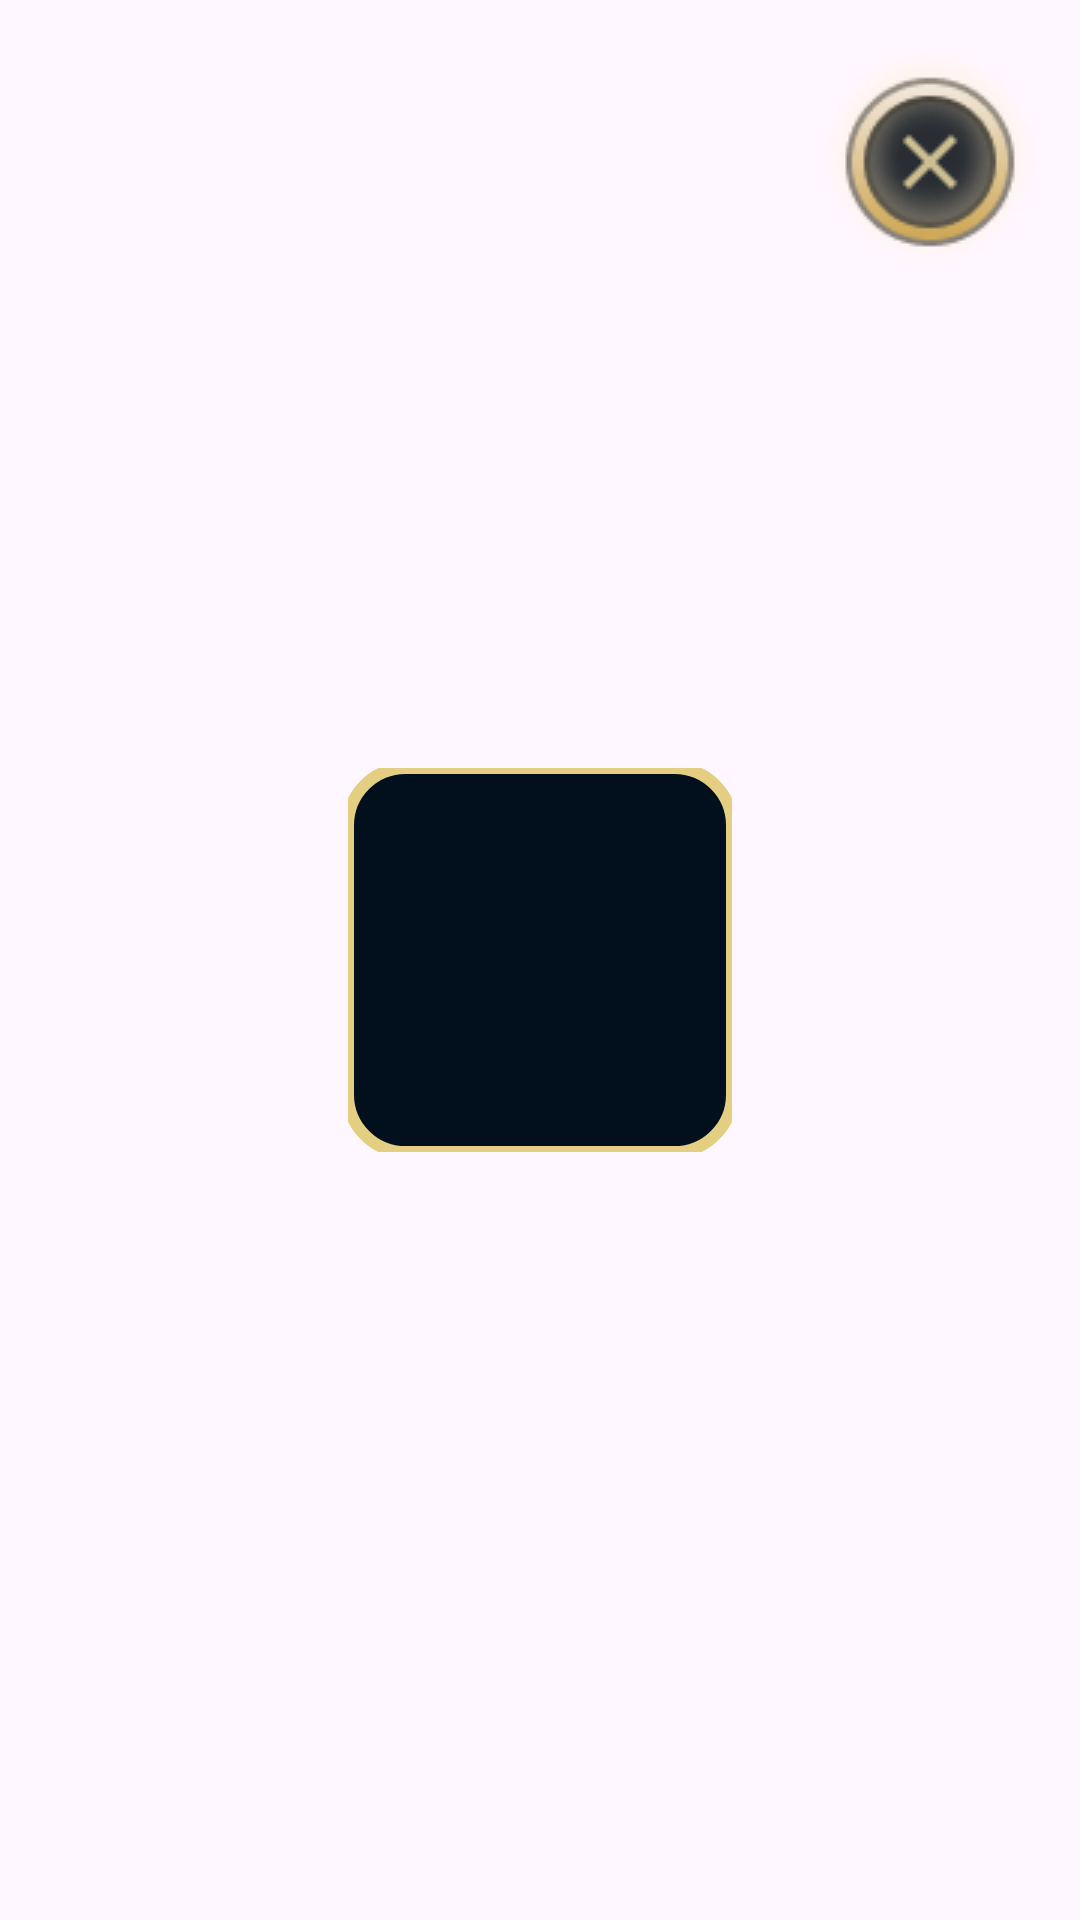

Named icons in this screenshot (1080×1920) and their centers, point (x, y):
cancel lol: point (930, 162)
